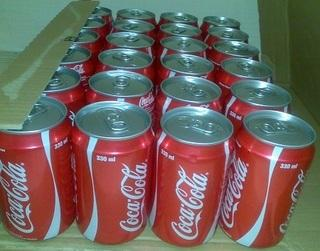can: (221, 110, 315, 247), (71, 101, 155, 243), (149, 107, 232, 246), (0, 95, 75, 239), (86, 70, 155, 130), (224, 79, 291, 140), (155, 77, 221, 132), (43, 66, 85, 124), (96, 48, 155, 85), (216, 58, 271, 97), (157, 54, 213, 89), (60, 44, 94, 100), (106, 30, 154, 57), (208, 40, 258, 65), (159, 36, 207, 58), (204, 25, 248, 48), (113, 8, 155, 32), (72, 27, 101, 59), (159, 22, 203, 42), (111, 19, 155, 38), (83, 15, 111, 39), (202, 17, 240, 34), (159, 12, 197, 25), (89, 6, 113, 22)
